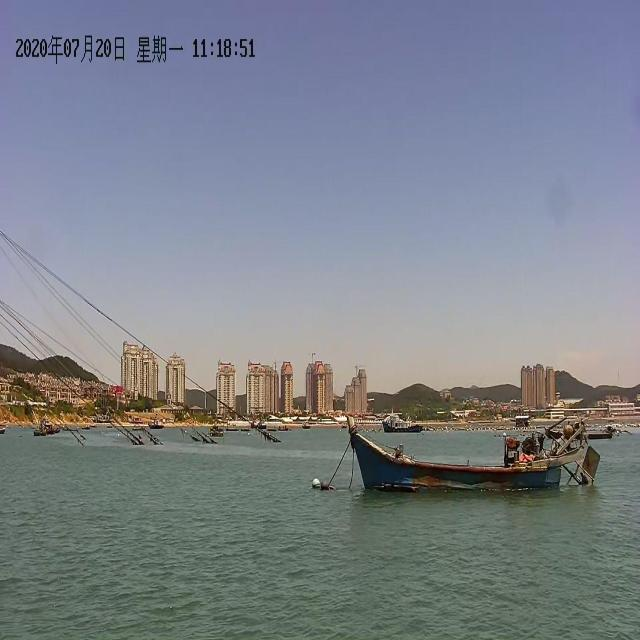ship: (344, 411, 608, 496), (378, 412, 423, 437), (30, 414, 61, 434)
